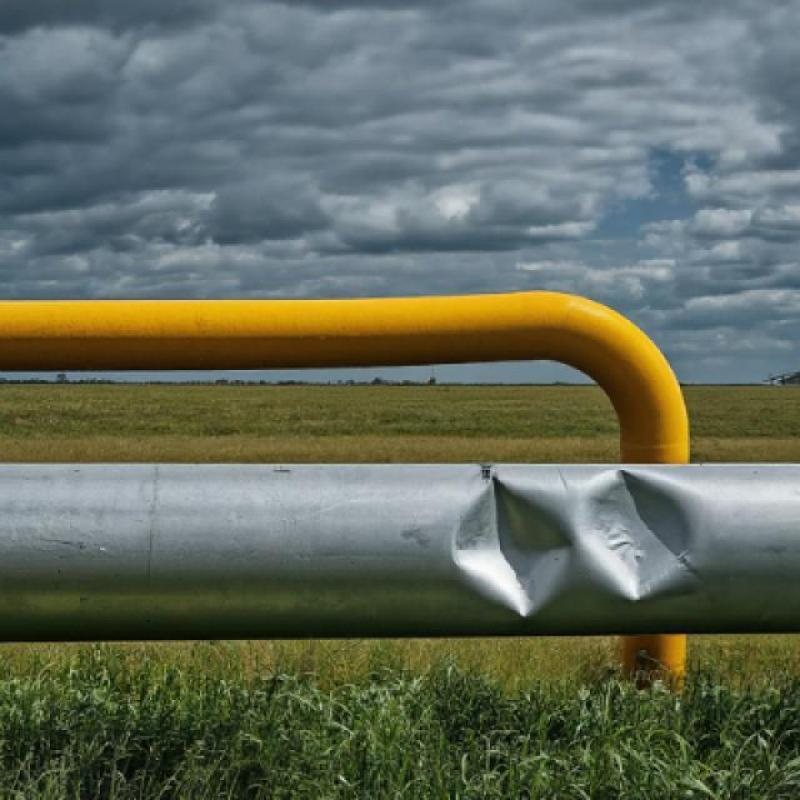Dent: (442, 475, 732, 633)
